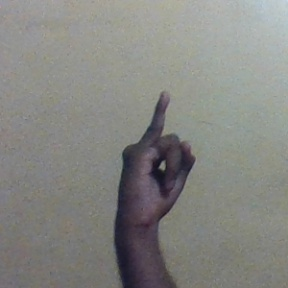I: (113, 90, 197, 224)
